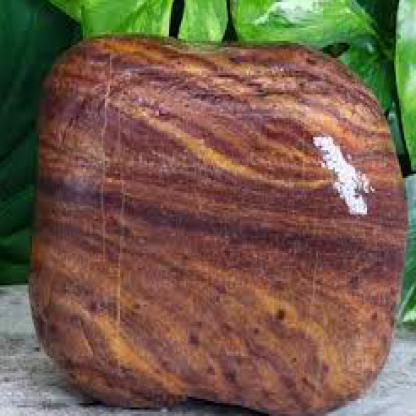Metamorphic_Quartize: (34, 21, 414, 414)
